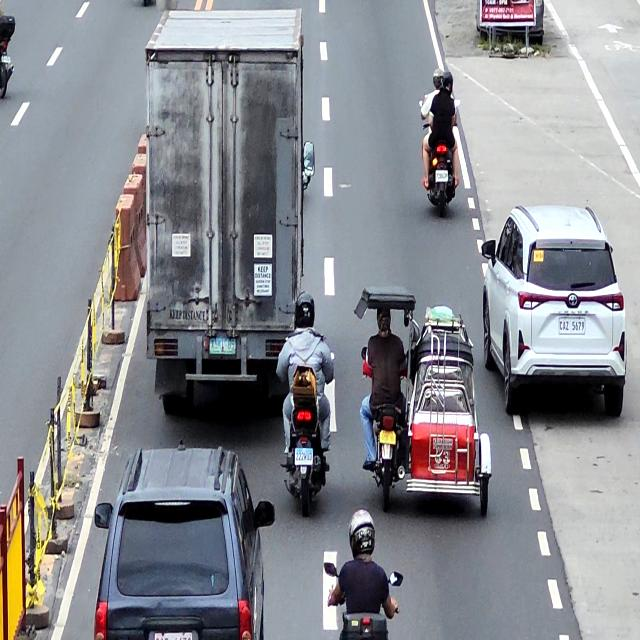Car: (93, 446, 274, 640), (482, 204, 627, 422)
License-Plate: (208, 338, 238, 356), (558, 318, 586, 336), (294, 448, 314, 466), (378, 428, 397, 446), (435, 170, 449, 182)
Motorcycle: (279, 338, 335, 518), (421, 93, 460, 216)
Tricycle: (361, 288, 492, 518)
Truck: (144, 11, 315, 416)
